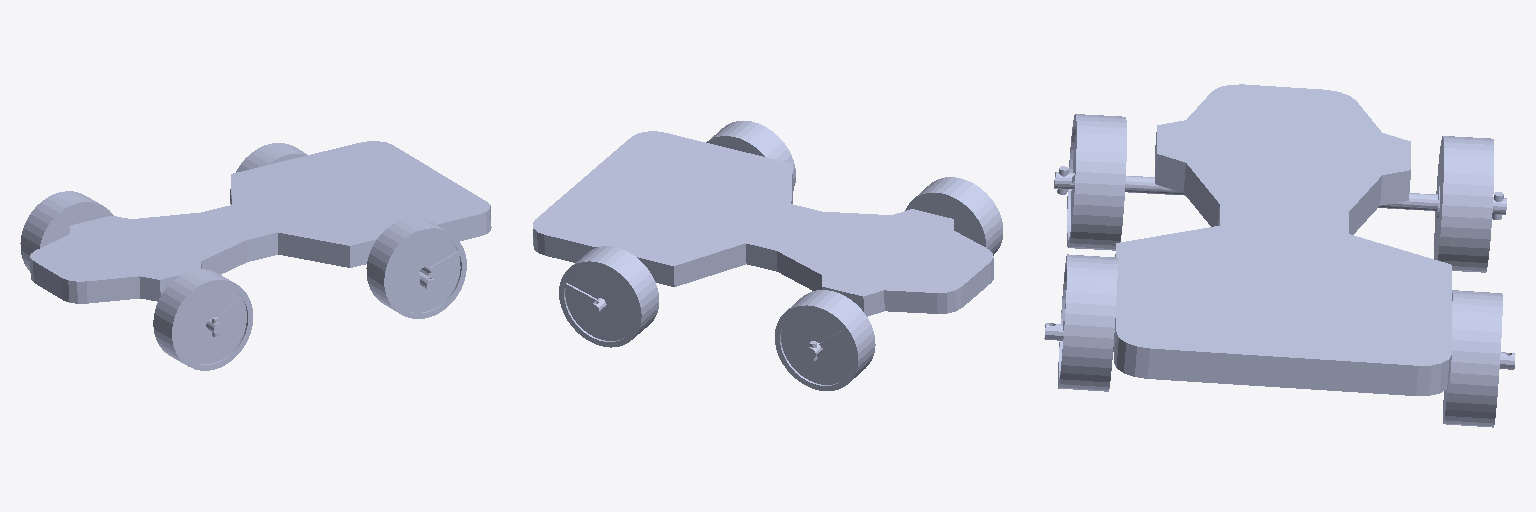
The robot description file, URDF, robot "car_assem":
<?xml version="1.0" encoding="utf-8"?>
<!-- This URDF was automatically created by SolidWorks to URDF Exporter! Originally created by [author] ([email redacted]) 
     Commit Version: 1.6.0-1-g15f4949  Build Version: 1.6.7594.29634
     For more information, please see http://wiki.ros.org/sw_urdf_exporter -->
<robot
  name="car_assem">
  <link name="dummy_link">
  </link>
  <joint name="dummy_joint" type="fixed">
        <origin
        xyz="0 0 0"
        rpy="1.5 0 0" />
	  <parent link="dummy_link" />
	  <child link="base_link" />
  </joint>
  <link
    name="base_link">
    <inertial>
      <origin
        xyz="0.434959557233976 0.480154416166651 0.780915642325222"
        rpy="0 0 0" />
      <mass
        value="18.9957633941014" />
      <inertia
        ixx="0.321480497658355"
        ixy="0.00882534016113909"
        ixz="4.49226682056294E-08"
        iyy="1.73624351581292"
        iyz="-7.09701033323967E-08"
        izz="1.42813532065719" />
    </inertial>
    <visual>
      <origin
        xyz="0 0 0"
        rpy="0 0 0" />
      <geometry>
        <mesh
          filename="package://car_assem/meshes/base_link.STL" />
      </geometry>
      <material
        name="">
        <color
          rgba="0.792156862745098 0.819607843137255 0.933333333333333 1" />
      </material>
    </visual>
    <collision>
      <origin
        xyz="0 0 0"
        rpy="0 0 0" />
      <geometry>
        <mesh
          filename="package://car_assem/meshes/base_link.STL" />
      </geometry>
    </collision>
  </link>
  <link
    name="front_left_steering_link">
    <inertial>
      <origin
        xyz="0.0789613521158623 0.0201784329051714 -7.01327474983415E-08"
        rpy="0 0 0" />
      <mass
        value="0.130435980995533" />
      <inertia
        ixx="3.04982371151654E-05"
        ixy="4.9215344508306E-05"
        ixz="-8.19738919368111E-10"
        iyy="0.000537452105458136"
        iyz="3.34922488643002E-10"
        izz="0.000556335665656311" />
    </inertial>
    <visual>
      <origin
        xyz="0 0 0"
        rpy="0 0 0" />
      <geometry>
        <mesh
          filename="package://car_assem/meshes/front_left_steering_link.STL" />
      </geometry>
      <material
        name="">
        <color
          rgba="0.792156862745098 0.819607843137255 0.933333333333333 1" />
      </material>
    </visual>
    <collision>
      <origin
        xyz="0 0 0"
        rpy="0 0 0" />
      <geometry>
        <mesh
          filename="package://car_assem/meshes/front_left_steering_link.STL" />
      </geometry>
    </collision>
  </link>
  <joint
    name="front_left_steering"
    type="revolute">
    <origin
      xyz="0.091551 0.41654 0.92953"
      rpy="0 -1.5464 0" />
    <parent
      link="base_link" />
    <child
      link="front_left_steering_link" />
    <axis
      xyz="0 1 0" />
    <limit
      lower="-0.35"
      upper="0.35"
      effort="0"
      velocity="0" />
  </joint>
  <link
    name="front_left_wheel_link">
    <inertial>
      <origin
        xyz="0.0429772351798592 -0.00991361852421707 7.7715611723761E-16"
        rpy="0 0 0" />
      <mass
        value="2.31289269458194" />
      <inertia
        ixx="0.0122648275270047"
        ixy="-7.47197150787787E-06"
        ixz="-1.78893358460108E-18"
        iyy="0.00714411189689047"
        iyz="-3.68565211174027E-19"
        izz="0.00715609598929908" />
    </inertial>
    <visual>
      <origin
        xyz="0 0 0"
        rpy="0 0 0" />
      <geometry>
        <mesh
          filename="package://car_assem/meshes/front_left_wheel_link.STL" />
      </geometry>
      <material
        name="">
        <color
          rgba="0.792156862745098 0.819607843137255 0.933333333333333 1" />
      </material>
    </visual>
    <collision>
      <origin
        xyz="0 0 0"
        rpy="0 0 0" />
      <geometry>
        <mesh
          filename="package://car_assem/meshes/front_left_wheel_link.STL" />
      </geometry>
    </collision>
  </link>
  <joint
    name="front_left_wheel"
    type="continuous">
    <origin
      xyz="0.084724 0.020158 -0.0087955"
      rpy="-1.0749 0 0" />
    <parent
      link="front_left_steering_link" />
    <child
      link="front_left_wheel_link" />
    <axis
      xyz="1 0 0" />
  </joint>
  <link
    name="front_right_steering_link">
    <inertial>
      <origin
        xyz="0.0789613530952155 0.0201784328893301 -7.01499886096579E-08"
        rpy="0 0 0" />
      <mass
        value="0.13043597902095" />
      <inertia
        ixx="3.04982371036657E-05"
        ixy="4.9215344446361E-05"
        ixz="-8.19722506991863E-10"
        iyy="0.000537452104619414"
        iyz="3.34926809928542E-10"
        izz="0.00055633566482944" />
    </inertial>
    <visual>
      <origin
        xyz="0 0 0"
        rpy="0 0 0" />
      <geometry>
        <mesh
          filename="package://car_assem/meshes/front_right_steering_link.STL" />
      </geometry>
      <material
        name="">
        <color
          rgba="0.792156862745098 0.819607843137255 0.933333333333333 1" />
      </material>
    </visual>
    <collision>
      <origin
        xyz="0 0 0"
        rpy="0 0 0" />
      <geometry>
        <mesh
          filename="package://car_assem/meshes/front_right_steering_link.STL" />
      </geometry>
    </collision>
  </link>
  <joint
    name="front_right_steering"
    type="revolute">
    <origin
      xyz="0.091551 0.41654 0.6323"
      rpy="3.1416 1.548 3.1416" />
    <parent
      link="base_link" />
    <child
      link="front_right_steering_link" />
    <axis
      xyz="0 1 0" />
    <limit
      lower="-0.35"
      upper="0.35"
      effort="0"
      velocity="0" />
  </joint>
  <link
    name="front_right_wheel_link">
    <inertial>
      <origin
        xyz="0.042763266193903 -0.00991361852421607 -1.11022302462516E-16"
        rpy="0 0 0" />
      <mass
        value="2.31289269458194" />
      <inertia
        ixx="0.0122648275270047"
        ixy="-7.4719715079482E-06"
        ixz="2.76810367162705E-17"
        iyy="0.00714411189689047"
        iyz="9.77052504657835E-19"
        izz="0.00715609598929908" />
    </inertial>
    <visual>
      <origin
        xyz="0 0 0"
        rpy="0 0 0" />
      <geometry>
        <mesh
          filename="package://car_assem/meshes/front_right_wheel_link.STL" />
      </geometry>
      <material
        name="">
        <color
          rgba="0.792156862745098 0.819607843137255 0.933333333333333 1" />
      </material>
    </visual>
    <collision>
      <origin
        xyz="0 0 0"
        rpy="0 0 0" />
      <geometry>
        <mesh
          filename="package://car_assem/meshes/front_right_wheel_link.STL" />
      </geometry>
    </collision>
  </link>
  <joint
    name="front_right_wheel"
    type="continuous">
    <origin
      xyz="0.084938 0.021602 -0.0078446"
      rpy="-0.90183 0 0" />
    <parent
      link="front_right_steering_link" />
    <child
      link="front_right_wheel_link" />
    <axis
      xyz="1 0 0" />
  </joint>
  <link
    name="back_left_wheel_link">
    <inertial>
      <origin
        xyz="0.0362610763466902 -0.0100576053882299 6.43690811298336E-05"
        rpy="0 0 0" />
      <mass
        value="2.31289269458194" />
      <inertia
        ixx="0.0122648275270047"
        ixy="4.98284864490567E-06"
        ixz="-5.56790603340364E-06"
        iyy="0.00715076644439137"
        iyz="5.95530937454549E-06"
        izz="0.00714944144179819" />
    </inertial>
    <visual>
      <origin
        xyz="0 0 0"
        rpy="0 0 0" />
      <geometry>
        <mesh
          filename="package://car_assem/meshes/back_left_wheel_link.STL" />
      </geometry>
      <material
        name="">
        <color
          rgba="0.792156862745098 0.819607843137255 0.933333333333333 1" />
      </material>
    </visual>
    <collision>
      <origin
        xyz="0 0 0"
        rpy="0 0 0" />
      <geometry>
        <mesh
          filename="package://car_assem/meshes/back_left_wheel_link.STL" />
      </geometry>
    </collision>
  </link>
  <joint
    name="back_left_wheel"
    type="continuous">
    <origin
      xyz="0.60728 0.42837 1.0349"
      rpy="2.7212 -1.5708 0" />
    <parent
      link="base_link" />
    <child
      link="back_left_wheel_link" />
    <axis
      xyz="1 0 0" />
  </joint>
  <link
    name="back_right_wheel_link">
    <inertial>
      <origin
        xyz="-0.0399389236533098 -0.00991361852421546 2.77555756156289E-17"
        rpy="0 0 0" />
      <mass
        value="2.31289269458194" />
      <inertia
        ixx="0.0122648275270047"
        ixy="-7.47197150789892E-06"
        ixz="2.4818065354551E-19"
        iyy="0.00714411189689046"
        iyz="0"
        izz="0.00715609598929908" />
    </inertial>
    <visual>
      <origin
        xyz="0 0 0"
        rpy="0 0 0" />
      <geometry>
        <mesh
          filename="package://car_assem/meshes/back_right_wheel_link.STL" />
      </geometry>
      <material
        name="">
        <color
          rgba="0.792156862745098 0.819607843137255 0.933333333333333 1" />
      </material>
    </visual>
    <collision>
      <origin
        xyz="0 0 0"
        rpy="0 0 0" />
      <geometry>
        <mesh
          filename="package://car_assem/meshes/back_right_wheel_link.STL" />
      </geometry>
    </collision>
  </link>
  <joint
    name="back_right_wheel"
    type="continuous">
    <origin
      xyz="0.62095 0.42207 0.45072"
      rpy="1.2833 1.5708 0" />
    <parent
      link="base_link" />
    <child
      link="back_right_wheel_link" />
    <axis
      xyz="1 0 0" />
  </joint>
</robot>

--- Facts derived from the render (not from the file) ---
The picture shows the robot from 3 angles, left to right: view 1: azimuth 30°, elevation 25°; view 2: azimuth 150°, elevation 25°; view 3: azimuth 270°, elevation 25°; orthographic projection.
Model car_assem with 8 links and 7 joints (2 revolute, 4 continuous, 1 fixed), rooted at dummy_link, posed all joints at 0.
Links seen in each view (by area): view 1: base_link, back_left_wheel_link, front_left_wheel_link, front_right_wheel_link, back_right_wheel_link; view 2: base_link, front_right_wheel_link, back_right_wheel_link, front_left_wheel_link, back_left_wheel_link; view 3: base_link, front_left_wheel_link, front_right_wheel_link, back_left_wheel_link, back_right_wheel_link, front_left_steering_link, front_right_steering_link.
Boxes of the visible links, x1=… form: base_link: x1=30, y1=141, x2=491, y2=303; back_left_wheel_link: x1=366, y1=217, x2=466, y2=318; front_left_wheel_link: x1=153, y1=269, x2=252, y2=370; front_right_wheel_link: x1=20, y1=191, x2=113, y2=270; back_right_wheel_link: x1=230, y1=143, x2=306, y2=204; base_link: x1=533, y1=131, x2=993, y2=316; front_right_wheel_link: x1=775, y1=290, x2=875, y2=390; back_right_wheel_link: x1=559, y1=246, x2=658, y2=347; front_left_wheel_link: x1=905, y1=177, x2=1002, y2=255; back_left_wheel_link: x1=706, y1=121, x2=795, y2=185; base_link: x1=1044, y1=84, x2=1515, y2=395; front_left_wheel_link: x1=1067, y1=114, x2=1126, y2=250; front_right_wheel_link: x1=1434, y1=136, x2=1493, y2=272; back_left_wheel_link: x1=1058, y1=254, x2=1117, y2=391; back_right_wheel_link: x1=1443, y1=290, x2=1502, y2=427; front_left_steering_link: x1=1054, y1=166, x2=1185, y2=195; front_right_steering_link: x1=1378, y1=186, x2=1506, y2=219.
Size in the robot's own frame: 0.9652 by 0.7112 by 0.2675 metres.
Meshes: 7 distinct files referenced, 7 mesh visuals loaded (7 binary STL).